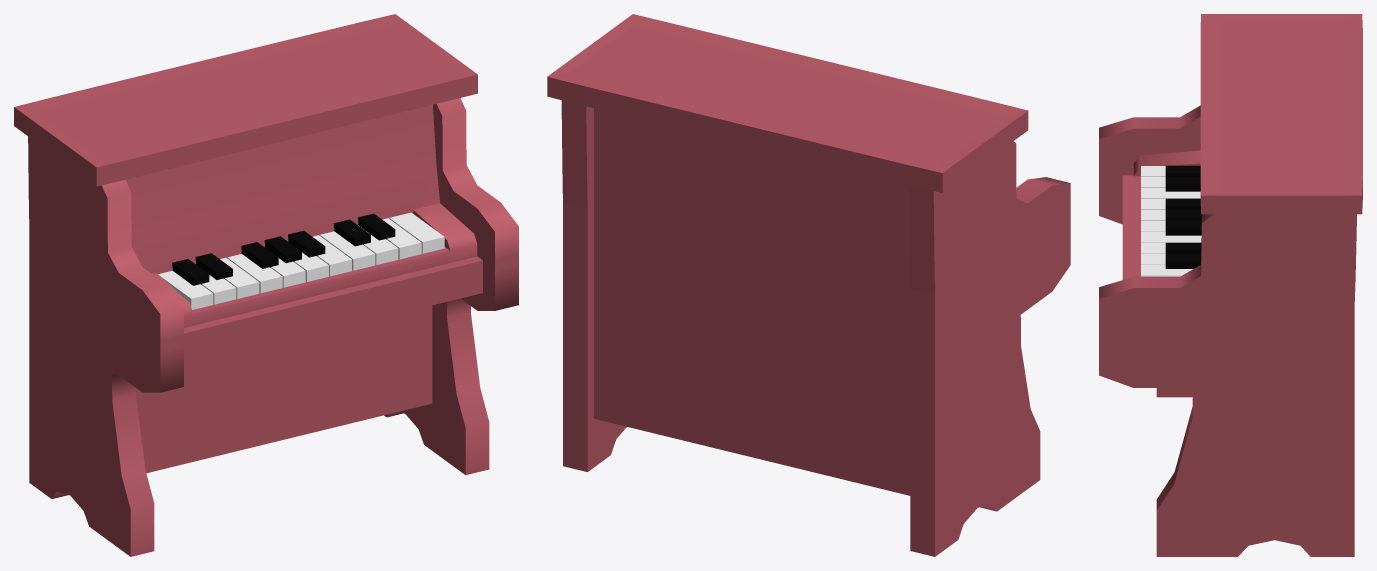
File: Klavier_newPivot.FBX
3 renders of one model, left to right at view 1: azimuth 30°, elevation 25°; view 2: azimuth 150°, elevation 25°; view 3: azimuth 270°, elevation 25°, orthographic. The views are drawn at different scales.
Parts seen in each view (by area): view 1: Klavier, TasteWeiss011, TasteWeiss01, TasteWeiss004, TasteWeiss008, TasteWeiss003, TasteWeiss010, TasteWeiss007, TasteSchwarz01, TasteSchwarz007, TasteSchwarz003, TasteSchwarz005 (+7 smaller); view 2: Klavier; view 3: Klavier, TasteSchwarz005, TasteSchwarz002, TasteWeiss007, TasteWeiss003, TasteSchwarz007, TasteWeiss010, TasteSchwarz006, TasteSchwarz004, TasteSchwarz01, TasteSchwarz003.
Boxes of the visible parts, x1,y1,x2,y2 form: Klavier: (14, 14, 518, 556); TasteWeiss011: (389, 212, 444, 253); TasteWeiss01: (158, 270, 213, 309); TasteWeiss004: (227, 254, 282, 293); TasteWeiss008: (320, 231, 375, 270); TasteWeiss003: (220, 257, 259, 298); TasteWeiss010: (382, 218, 421, 259); TasteWeiss007: (313, 235, 351, 276); TasteSchwarz01: (172, 259, 209, 285); TasteSchwarz007: (358, 213, 395, 240); TasteSchwarz003: (241, 242, 278, 268); TasteSchwarz005: (288, 230, 325, 257); Klavier: (547, 14, 1070, 556); Klavier: (1099, 14, 1362, 556); TasteSchwarz005: (1165, 220, 1201, 235); TasteSchwarz002: (1165, 176, 1200, 191); TasteWeiss007: (1141, 232, 1201, 242); TasteWeiss003: (1141, 188, 1200, 198); TasteSchwarz007: (1165, 254, 1201, 268); TasteWeiss010: (1141, 265, 1192, 276); TasteSchwarz006: (1165, 242, 1201, 253); TasteSchwarz004: (1165, 209, 1201, 220); TasteSchwarz01: (1165, 165, 1200, 176); TasteSchwarz003: (1165, 198, 1200, 209).
Size of the model in its own units: 92.48 by 87.07 by 56.79.
